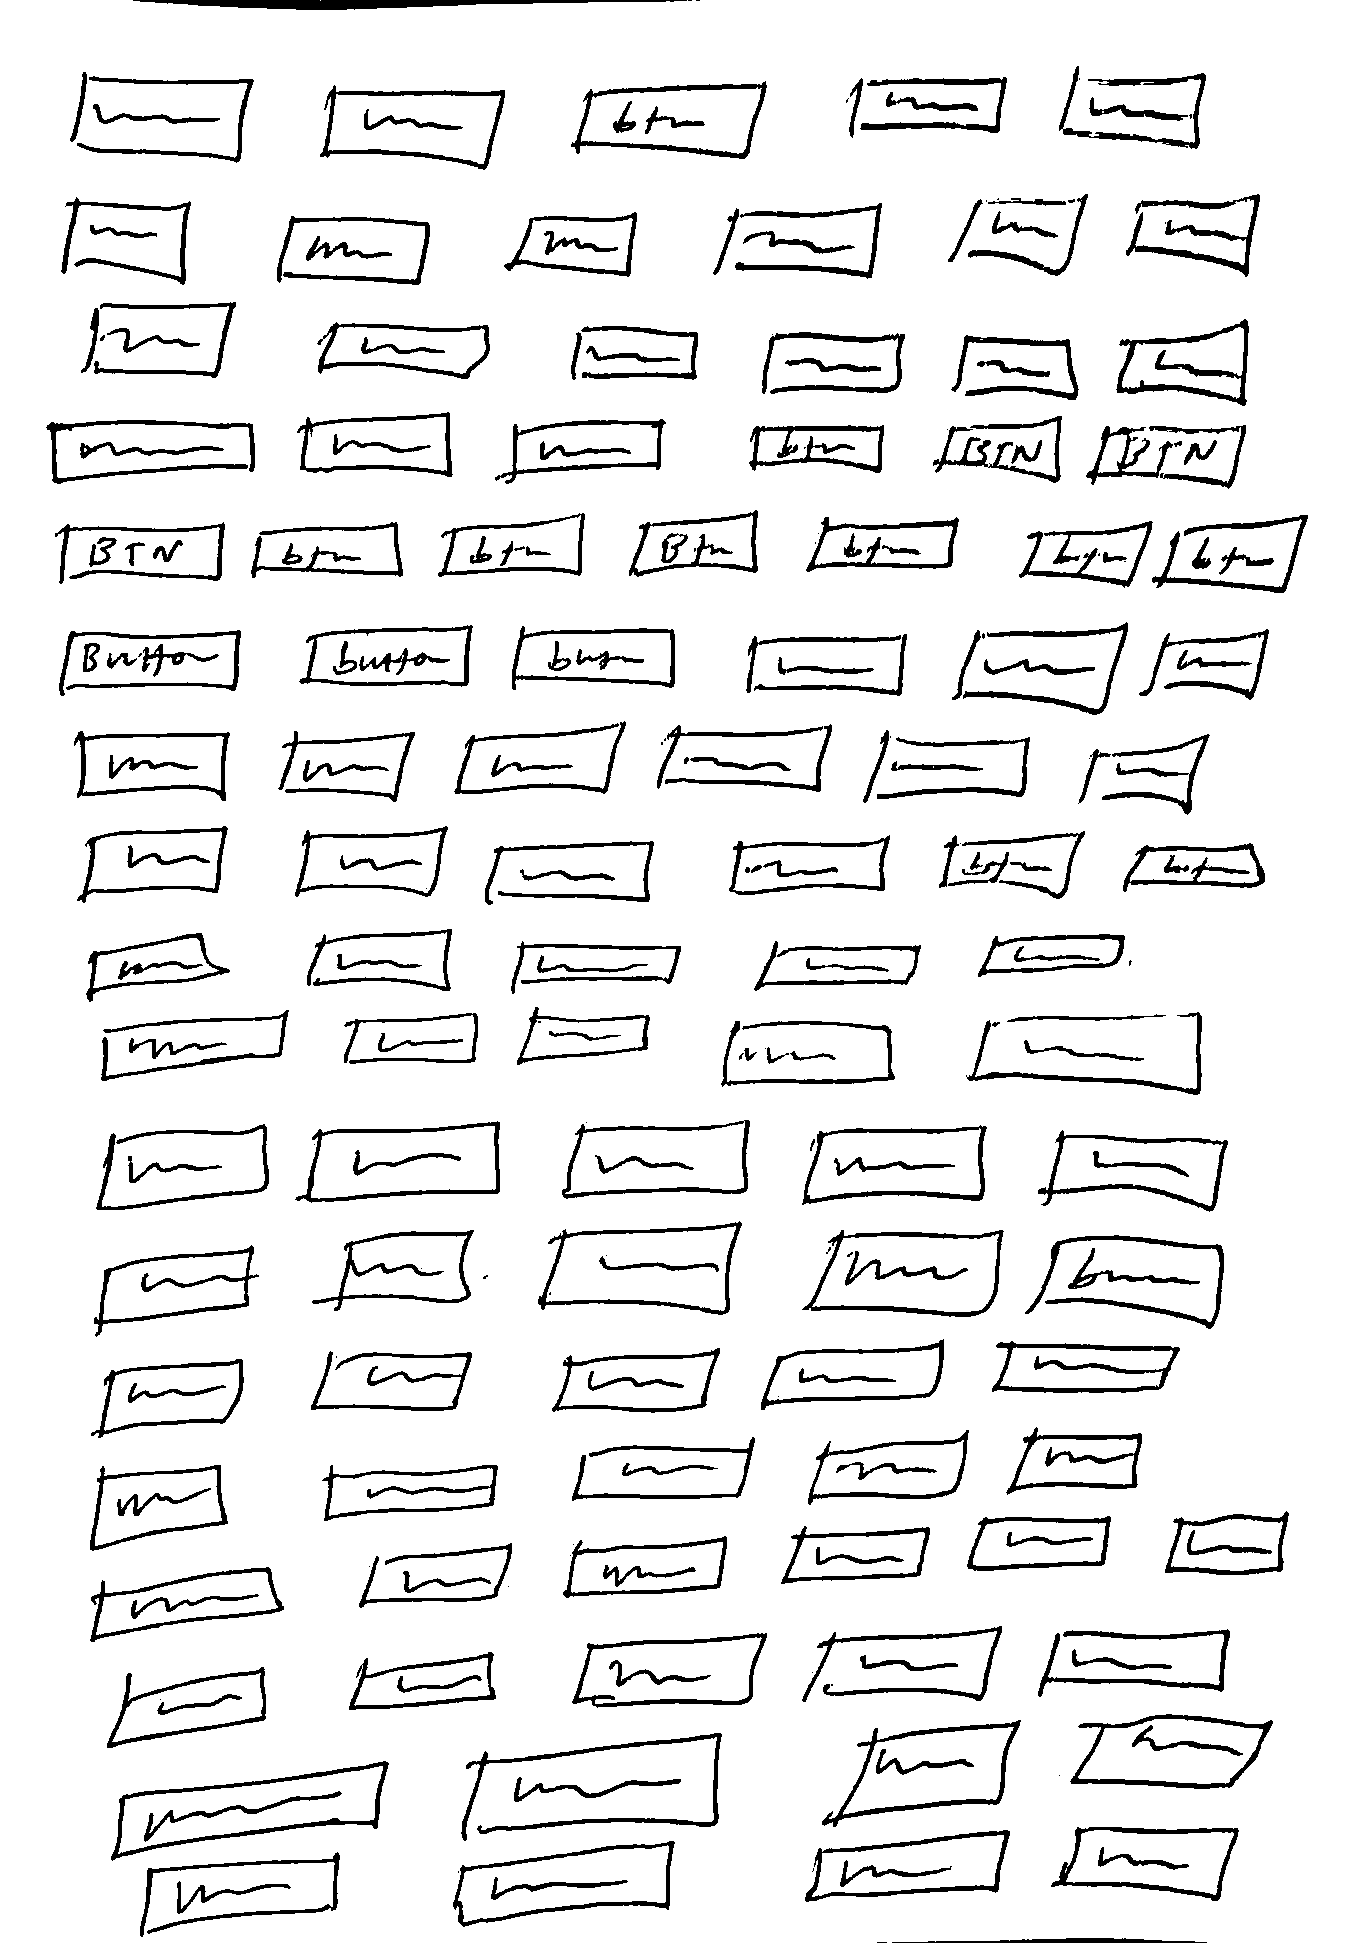Button: (1152, 513, 1313, 597), (56, 626, 245, 696), (435, 508, 588, 584), (302, 624, 475, 690), (55, 522, 231, 584), (1085, 423, 1251, 488), (934, 829, 1087, 898), (509, 625, 680, 686), (628, 508, 763, 584), (930, 414, 1069, 485), (250, 520, 407, 582), (1016, 519, 1158, 587), (806, 516, 961, 570), (1121, 841, 1267, 892), (747, 423, 887, 471)
